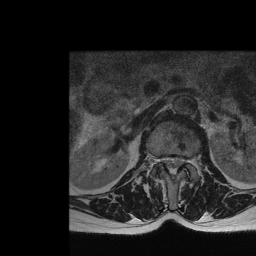CCS_normal: (169, 147, 175, 184)
LFS_stenosis: (183, 148, 190, 171)
LLS_normal: (175, 147, 183, 176)
RFS_stenosis: (155, 149, 162, 169)
RLS_normal: (162, 147, 169, 173)
